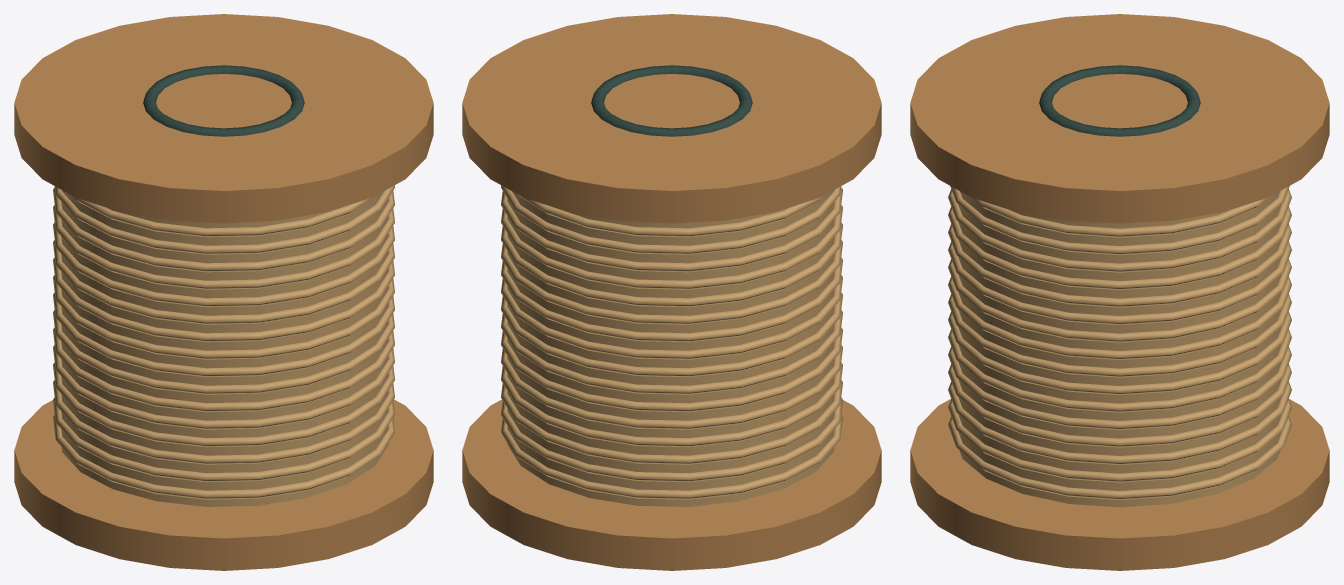
The model's file is interaction-spool-light.glb.
3 views of the same model, side by side, from view 1: azimuth 30°, elevation 25°; view 2: azimuth 150°, elevation 25°; view 3: azimuth 270°, elevation 25° (orthographic).
Parts seen in each view (by area): view 1: spool_wood, spool_thread, spool_dark; view 2: spool_wood, spool_thread, spool_dark; view 3: spool_wood, spool_thread, spool_dark.
Boxes of the visible parts, x1=… form: spool_wood: x1=14, y1=14, x2=433, y2=570; spool_thread: x1=53, y1=185, x2=394, y2=506; spool_dark: x1=143, y1=65, x2=304, y2=136; spool_wood: x1=462, y1=14, x2=881, y2=570; spool_thread: x1=501, y1=185, x2=842, y2=506; spool_dark: x1=591, y1=65, x2=752, y2=136; spool_wood: x1=910, y1=14, x2=1329, y2=570; spool_thread: x1=948, y1=186, x2=1291, y2=507; spool_dark: x1=1039, y1=65, x2=1200, y2=136.
Size of the model in its own units: 0.76 by 0.7762 by 0.76.
